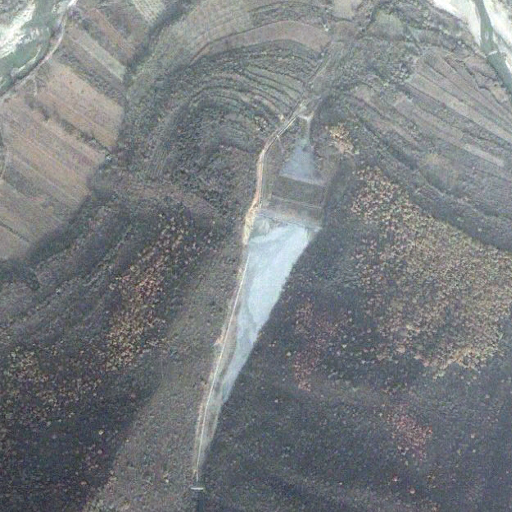tp: (195, 130, 328, 487)
